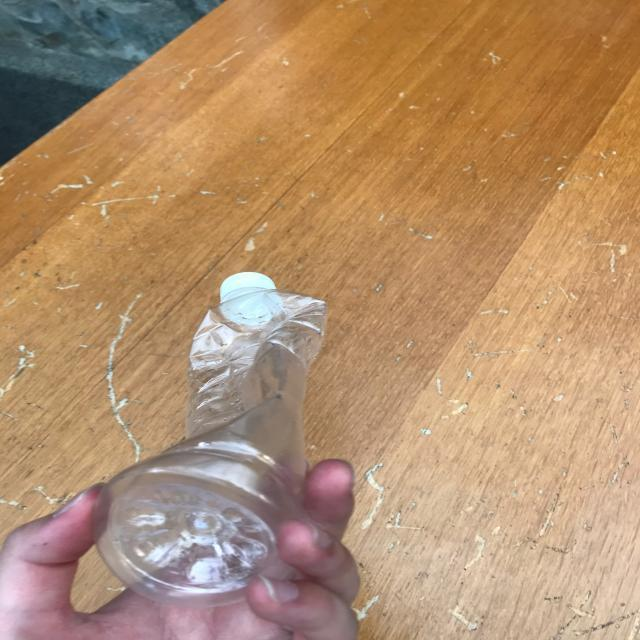plastic_bottle: (92, 272, 329, 608)
